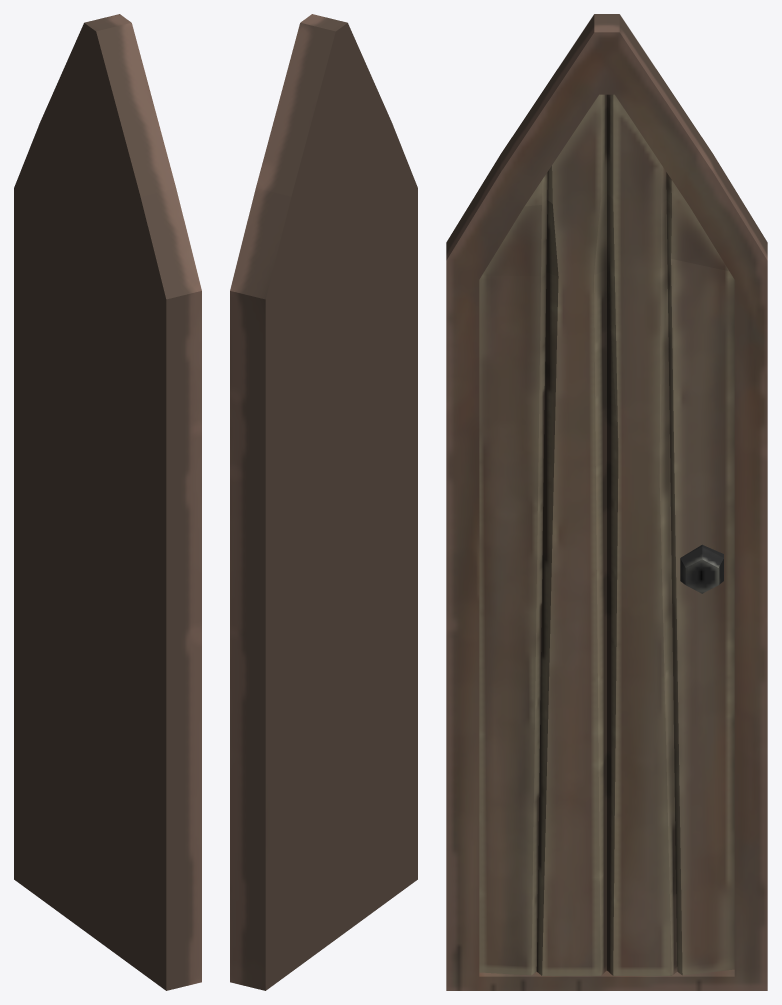
File: Door 1.fbx
The picture shows the model from 3 angles, left to right: view 1: azimuth 30°, elevation 25°; view 2: azimuth 150°, elevation 25°; view 3: azimuth 270°, elevation 25°; orthographic projection. The views are drawn at different scales.
Parts seen in each view (by area): view 1: Door; view 2: Door; view 3: Door.
Boxes of the visible parts, <box> form: Door: <box>14,14,201,990</box>; Door: <box>230,14,417,990</box>; Door: <box>446,14,767,990</box>.
Bounding box in the file's own units: 25.75 × 479 × 146.
